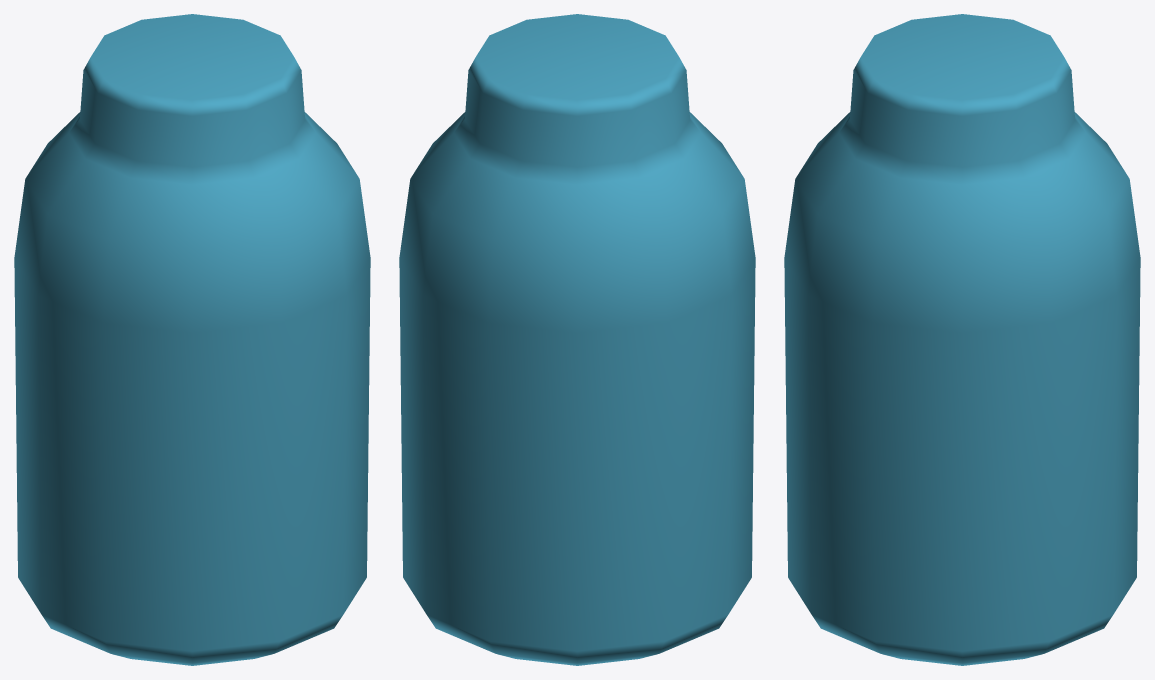
Rendered from product-orbit.glb.
The picture shows the model from 3 angles, left to right: view 1: azimuth 30°, elevation 25°; view 2: azimuth 150°, elevation 25°; view 3: azimuth 270°, elevation 25°; orthographic projection.
Visible parts, largest first — view 1: Finish; view 2: Finish; view 3: Finish.
Boxes of the visible parts, box(x1,y1,x2,y2) form: Finish: box(14, 14, 370, 665); Finish: box(399, 14, 755, 665); Finish: box(784, 14, 1140, 665).
Size of the model in its own units: 98 by 169 by 98.
